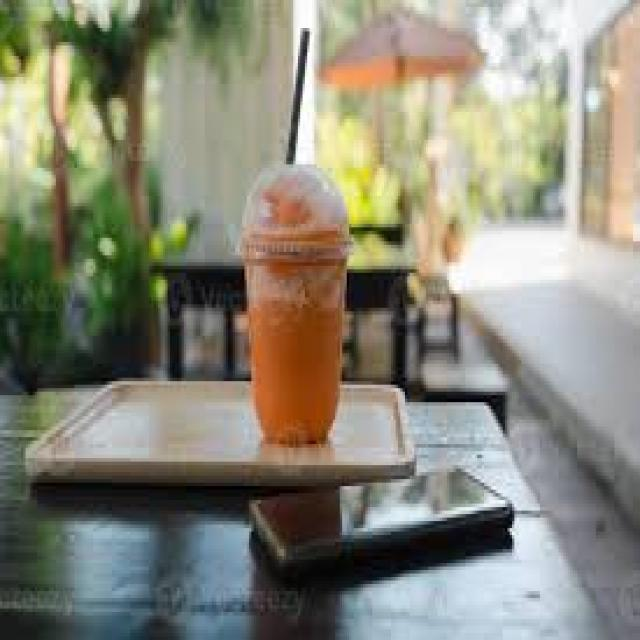bottle: (247, 255, 345, 444)
